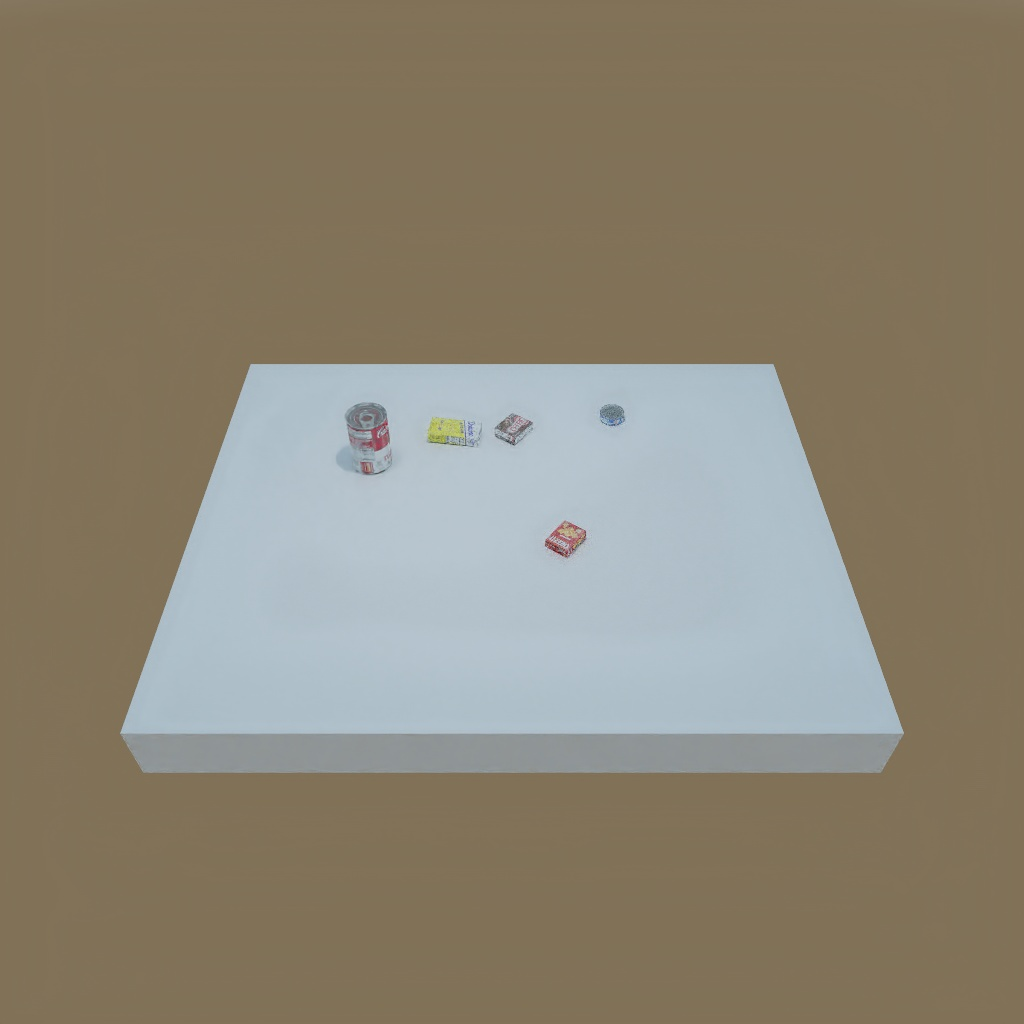pudding_box: (492, 411, 535, 447)
tomato_soup_can: (343, 405, 398, 474)
